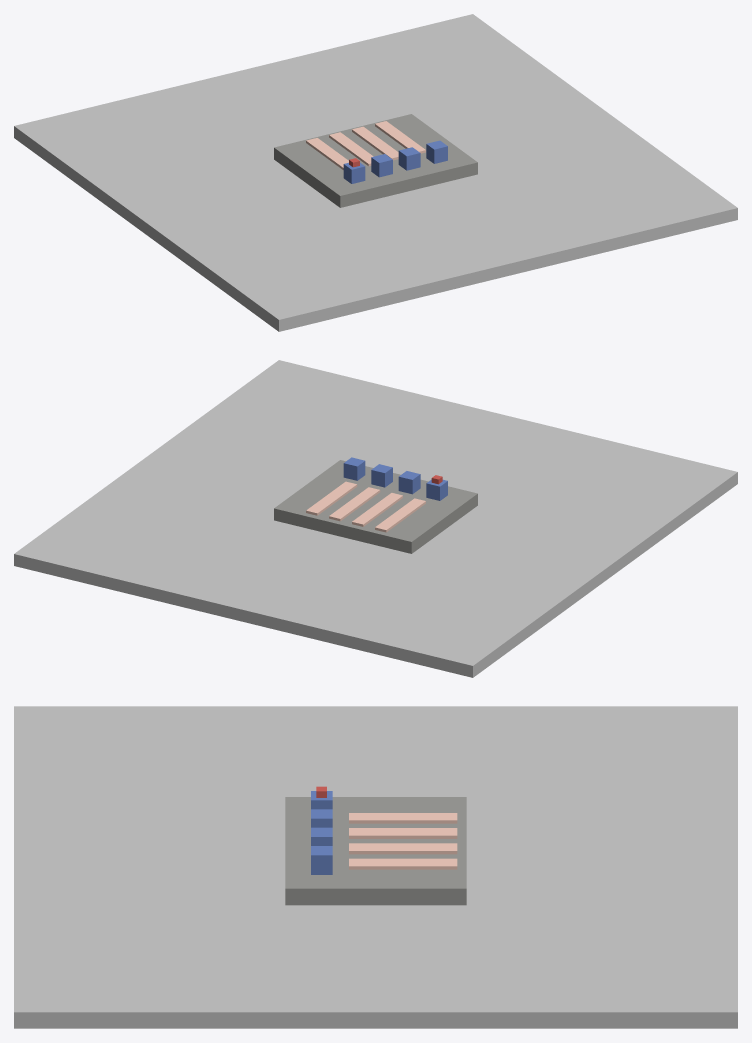
Rendered from tags_fixture.gltf.
The picture shows the model from 3 angles, top to bottom: view 1: azimuth 30°, elevation 25°; view 2: azimuth 150°, elevation 25°; view 3: azimuth 270°, elevation 25°; orthographic projection. The views are drawn at different scales.
Parts seen in each view (by area): view 1: floor, slab, strips; view 2: floor, slab, strips; view 3: floor, slab, strips, part3.
Part boxes in pixels (x1,y1,x2,y2): floor: [14, 14, 737, 331]; slab: [274, 114, 477, 207]; strips: [306, 121, 425, 169]; floor: [14, 360, 737, 677]; slab: [274, 460, 477, 553]; strips: [306, 481, 425, 532]; floor: [14, 706, 737, 1028]; slab: [285, 797, 466, 905]; strips: [349, 813, 457, 869]; part3: [311, 846, 332, 874].
Bounding box in the file's own units: 4 × 0.36 × 4.
